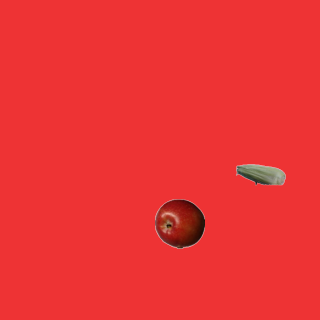Apple Braeburn: (154, 198, 204, 248)
Corn Husk: (235, 149, 285, 199)
